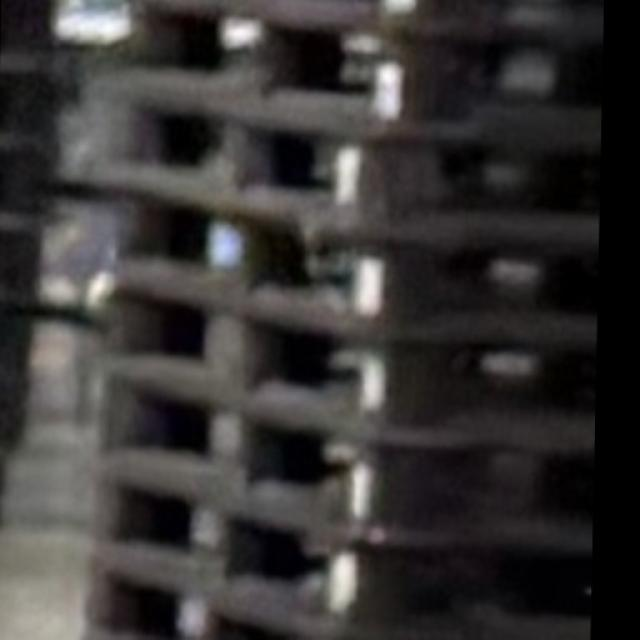igps: (83, 362, 607, 540), (70, 464, 599, 640), (82, 273, 604, 437), (46, 80, 608, 232), (84, 172, 608, 332), (59, 0, 615, 131), (67, 552, 341, 640)
